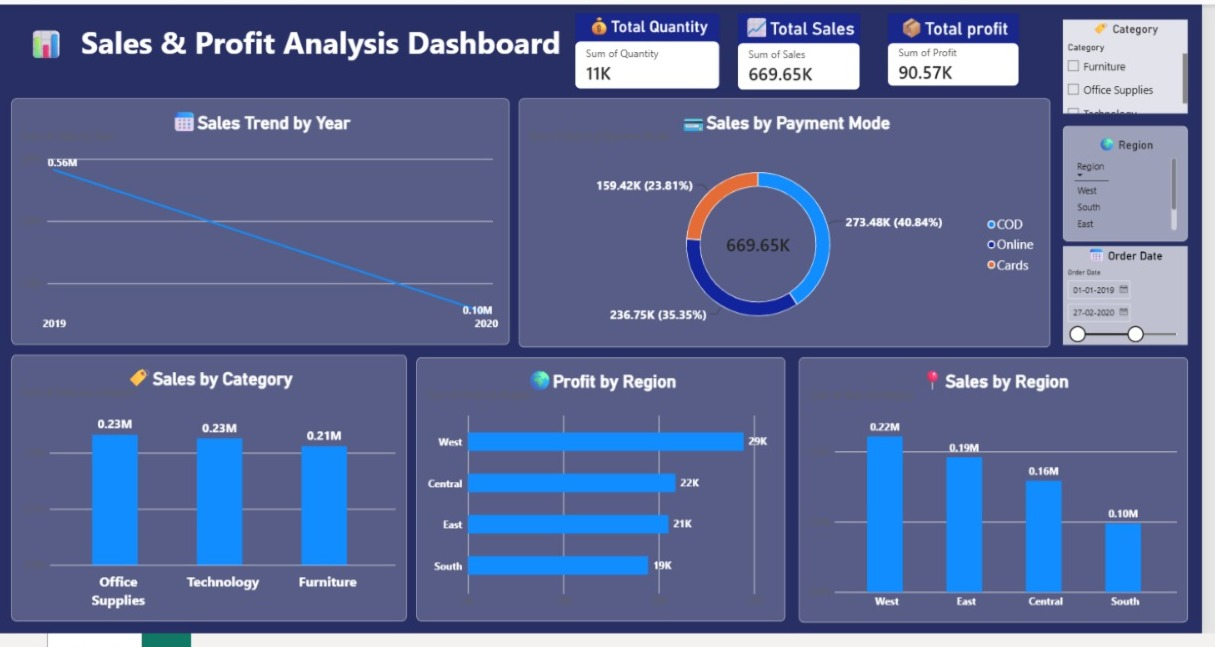

The page's visual inventory and layout, read from the dashboard file:
{"tool":"powerbi","page":{"name":"Page 1","canvas":[1920,1000],"ordinal":0},"visuals":[{"type":"cardVisual","title":" 📈Total Sales","fields":{"Data":["Sum(Sheet1.Sales)"]},"box":[1181.7,13.9,195,121.4],"z":0},{"type":"cardVisual","title":"📦Total profit","fields":{"Data":["Sum(Sheet1.Profit)"]},"box":[1420.5,13.9,208.9,115.4],"z":1000},{"type":"cardVisual","title":"💰Total Quantity","fields":{"Data":["Sum(Sheet1.Quantity)"]},"box":[922.2,13.6,229.4,120.4],"z":2000},{"type":"lineChart","title":"📅Sales Trend by Year","fields":{"Category":["Sheet1.Order Date.Variation.Date Hierarchy.Year"],"Y":["Sum(Sheet1.Sales)"]},"box":[25.9,149.2,791.8,391.9],"z":3000},{"type":"columnChart","title":"🏷️Sales by Category","fields":{"Category":["Sheet1.Category"],"Y":["Sum(Sheet1.Sales)"]},"box":[25.9,557,628.7,423.7],"z":4000},{"type":"barChart","title":"🌍Profit by Region","fields":{"Category":["Sheet1.Region"],"Y":["Sum(Sheet1.Profit)"]},"box":[670.4,561,586.9,419.8],"z":5000},{"type":"tableEx","title":"🌍 Region","fields":{"Values":["Sheet1.Region"]},"box":[1699,193,198.9,183],"z":7000},{"type":"slicer","title":"🏷️ Category","fields":{"Values":["Sheet1.Category"]},"box":[1699,23.9,198.9,149.2],"z":8000},{"type":"slicer","title":"📅 Order Date","fields":{"Values":["Sheet1.Order Date"]},"box":[1699,384,198.9,157.2],"z":9000},{"type":"donutChart","title":"💳Sales by Payment Mode","fields":{"Category":["Sheet1.Payment Mode"],"Y":["Sum(Sheet1.Sales)"]},"box":[833.6,149.2,845.5,395.9],"z":9001},{"type":"textbox","box":[0,25,997.1,77.2],"z":9002},{"type":"columnChart","title":"📍Sales by Region","fields":{"Category":["Sheet1.Region"],"Y":["Sum(Sheet1.Sales)"]},"box":[1279.2,561,618.7,421.8],"z":9003}]}

Visuals, with their boxes in screenshot pixels (x1, y1, x2, y2), scaled from the page's 1920x1000 canvas onto the 1215x647 screenshot:
" 📈Total Sales" cardVisual: 748, 9, 871, 88
"📦Total profit" cardVisual: 899, 9, 1031, 84
"💰Total Quantity" cardVisual: 584, 9, 729, 87
"📅Sales Trend by Year" lineChart: 16, 97, 517, 350
"🏷️Sales by Category" columnChart: 16, 360, 414, 635
"🌍Profit by Region" barChart: 424, 363, 796, 635
"🌍 Region" tableEx: 1075, 125, 1201, 243
"🏷️ Category" slicer: 1075, 15, 1201, 112
"📅 Order Date" slicer: 1075, 248, 1201, 350
"💳Sales by Payment Mode" donutChart: 528, 97, 1063, 353
textbox: 0, 16, 631, 66
"📍Sales by Region" columnChart: 809, 363, 1201, 636
